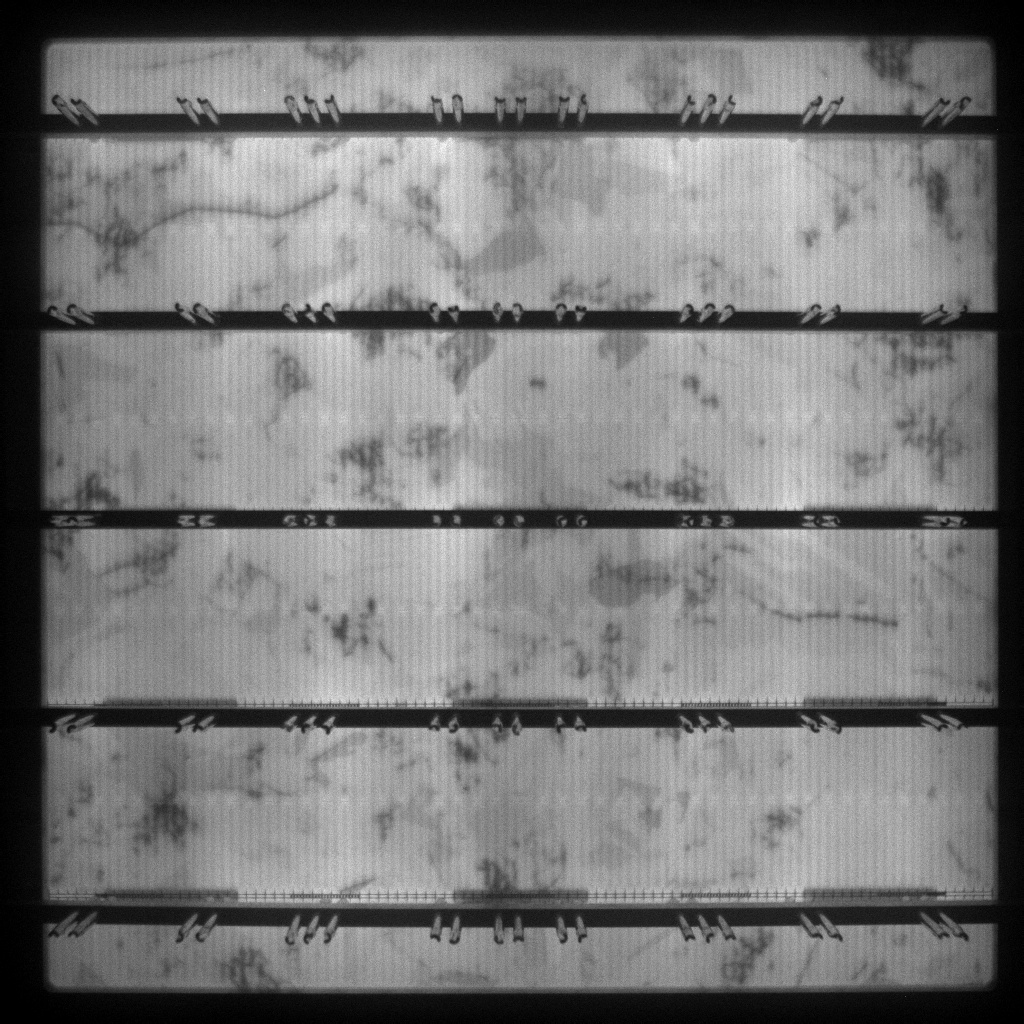crack: (45, 181, 345, 251)
